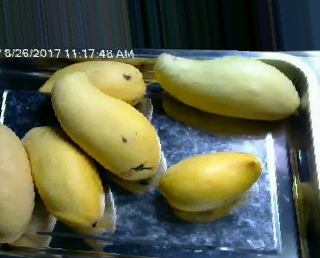Mango: (53, 72, 162, 177), (157, 52, 302, 120), (21, 128, 105, 226), (161, 151, 262, 210), (42, 61, 147, 104), (0, 120, 36, 244)
